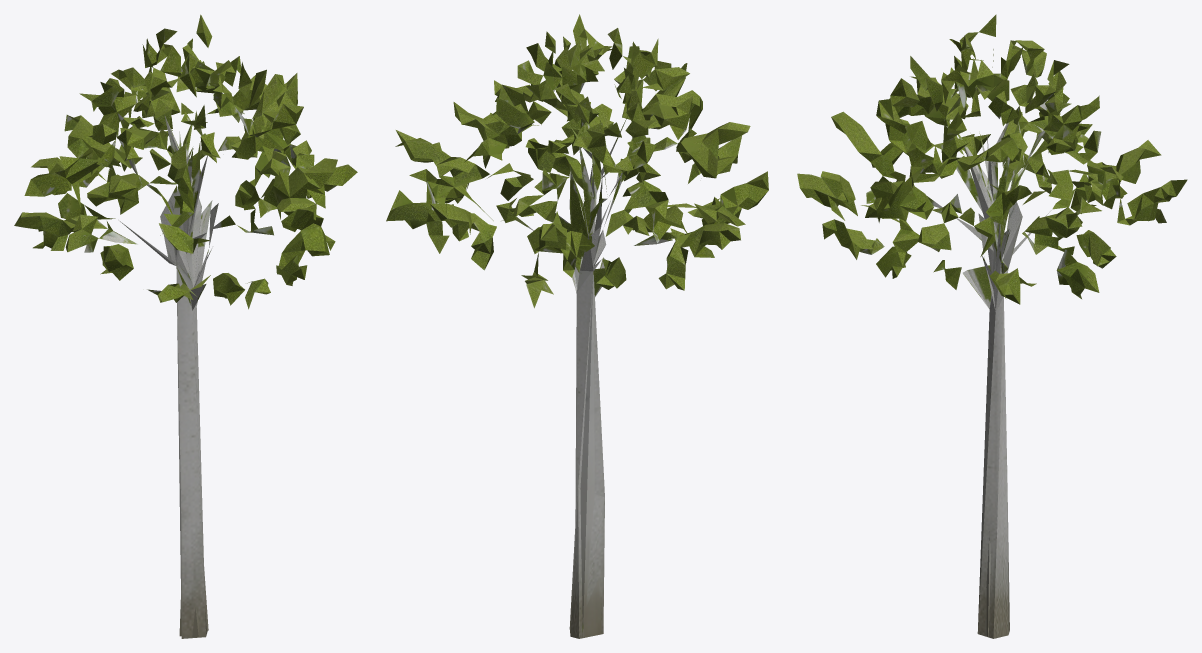
Rendered from broadleaf.glb.
The picture shows the model from 3 angles, left to right: view 1: azimuth 30°, elevation 25°; view 2: azimuth 150°, elevation 25°; view 3: azimuth 270°, elevation 25°; orthographic projection.
Size of the model in its own units: 1.02 by 1.75 by 1.04.
Materials: 1 (1 with a texture image).
